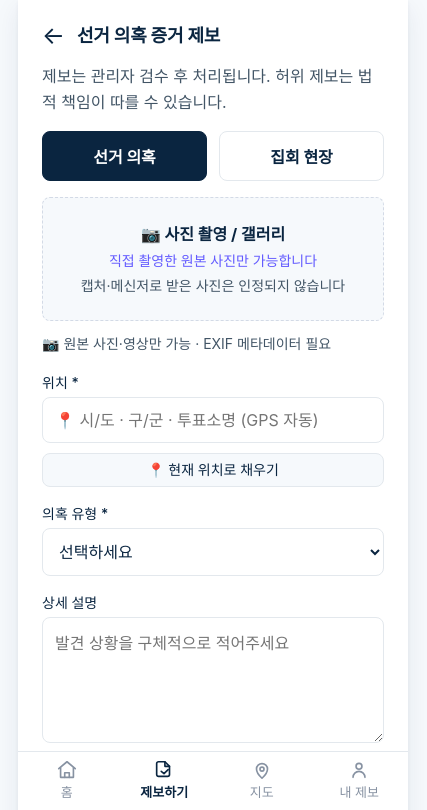
Test: ReportForm 분류·선거(0007) › 선거 미선택도 제출 가능하며 electionId 를 전송하지 않는다
The width and height of the screenshot is (427, 810).
In the text box labelled "상세 설명": (213, 680) [42,617,384,743], type "관찰한 정황"
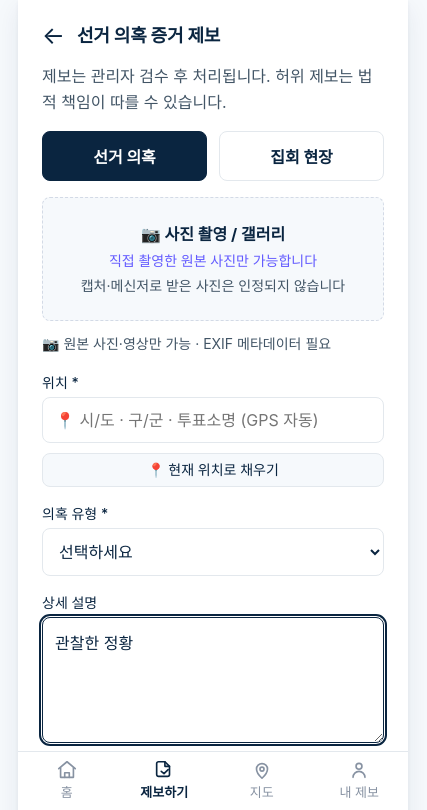
Select "기타" in the dropdown labelled "의혹 유형": (213, 552) [42,528,384,576]
(page scrolled)
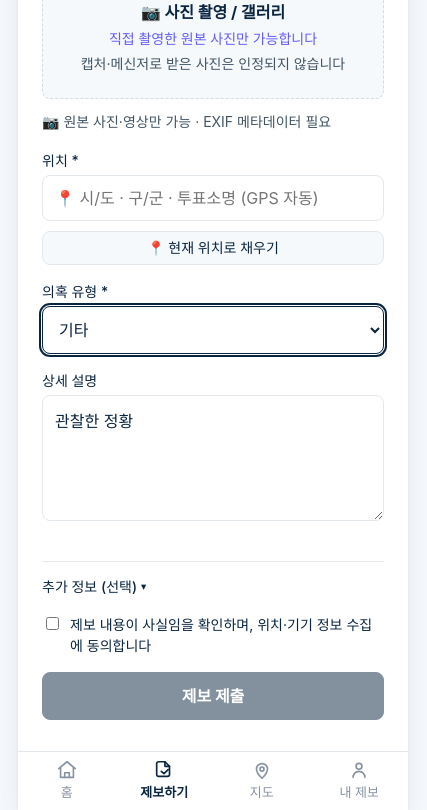
Click the checkbox labelled "제보 내용이 사실임을 확인하며, 위치·기기 정보 수집에 동의합니다": (52, 624) [46,617,59,630]
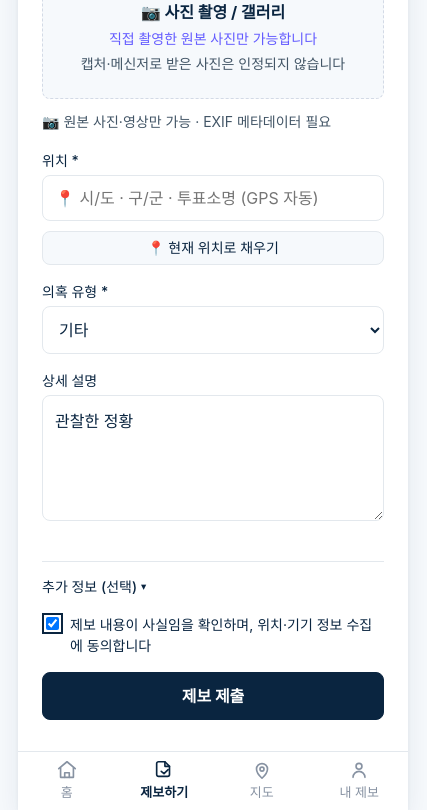
Click the button "제보 제출": (213, 696) [42,672,384,720]
(page scrolled)
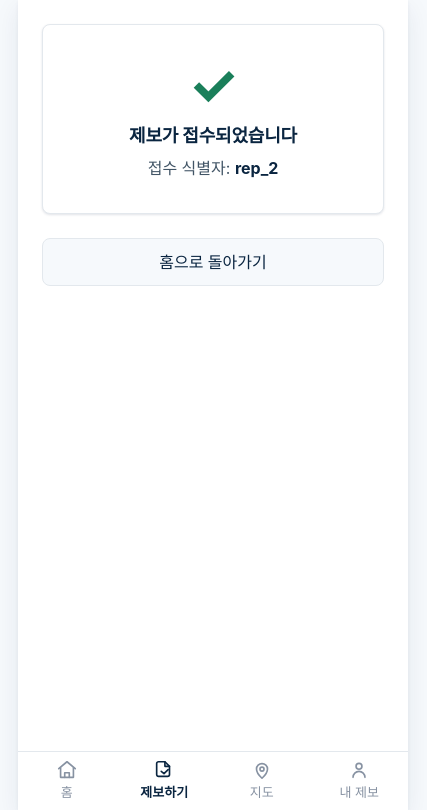
Expected: the heading "제보가 접수되었습니다" is shown, [129,125,297,146]
